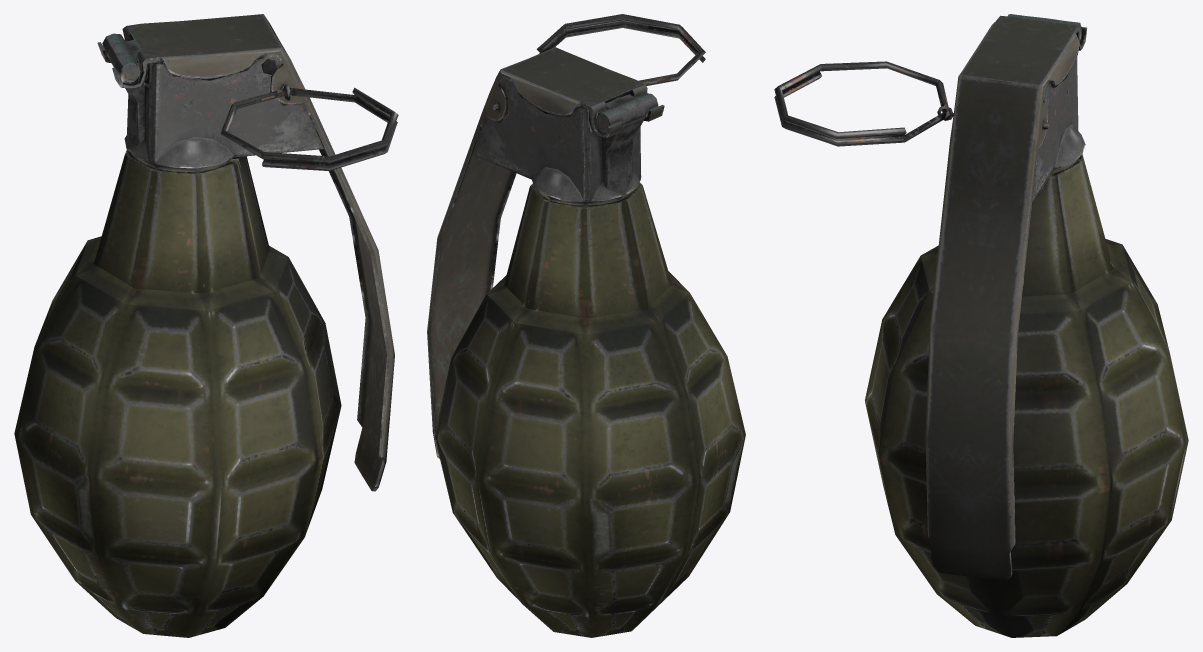
The picture shows the model from 3 angles, left to right: view 1: azimuth 30°, elevation 25°; view 2: azimuth 150°, elevation 25°; view 3: azimuth 270°, elevation 25°; orthographic projection. The views are drawn at different scales.
Visible parts, largest first — view 1: grenade_mesh; view 2: grenade_mesh; view 3: grenade_mesh.
Boxes of the visible parts, <box> form: grenade_mesh: <box>14,14,398,637</box>; grenade_mesh: <box>427,14,745,637</box>; grenade_mesh: <box>774,14,1188,637</box>.
Size of the model in its own units: 0.0829 by 0.1394 by 0.0906.
1 material, 1 textured.
